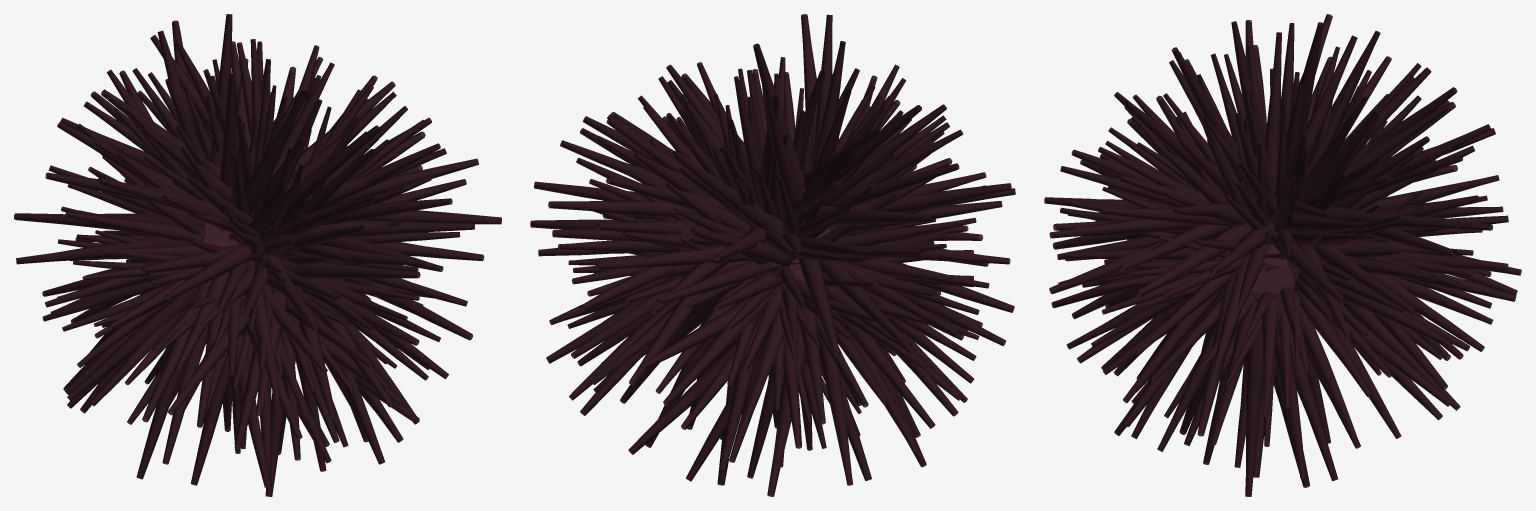
Rendered from coral1.fbx.
The picture shows the model from 3 angles, left to right: view 1: azimuth 30°, elevation 25°; view 2: azimuth 150°, elevation 25°; view 3: azimuth 270°, elevation 25°; orthographic projection. The views are drawn at different scales.
Parts seen in each view (by area): view 1: polySurface1; view 2: polySurface1; view 3: polySurface1.
Part boxes in pixels (x1=…): polySurface1: x1=14, y1=14, x2=501, y2=496; polySurface1: x1=530, y1=14, x2=1015, y2=496; polySurface1: x1=1044, y1=14, x2=1521, y2=496.
Size of the model in its own units: 27.49 by 29.48 by 28.74.
